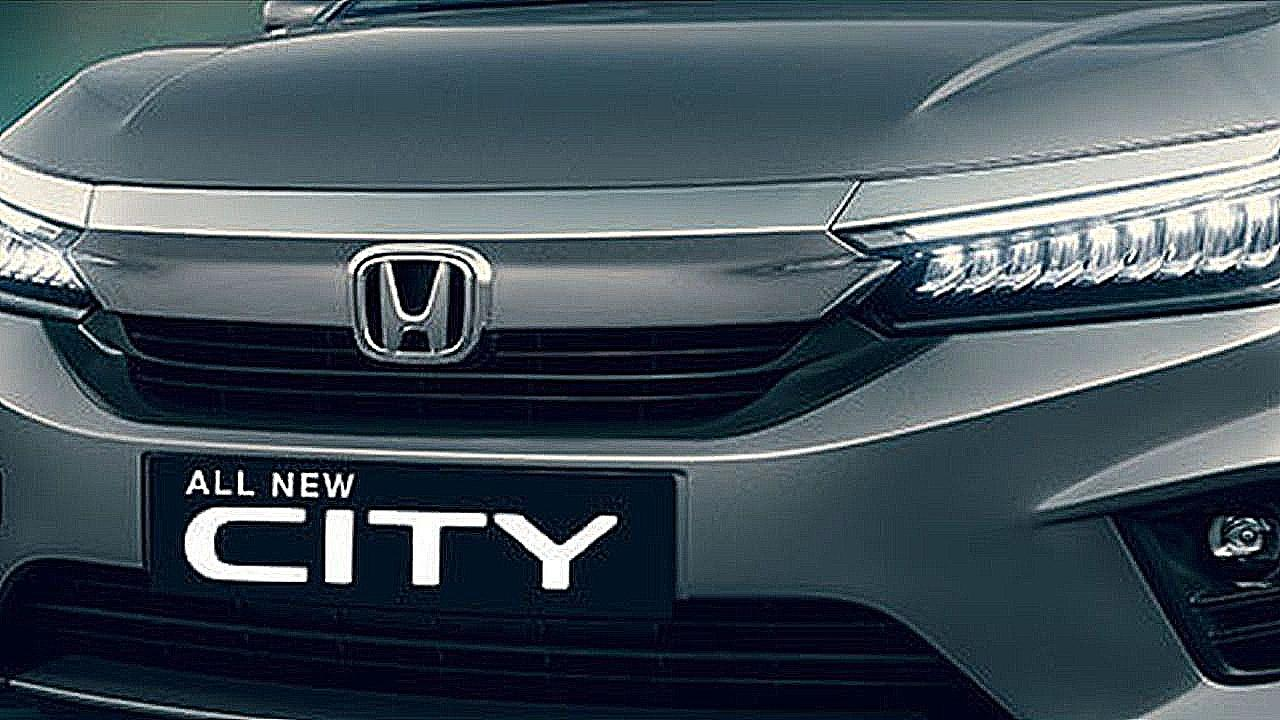Car hood: (0, 2, 1280, 195)
Front bumper: (0, 316, 1280, 720)
Headlight - -L-: (848, 168, 1280, 352)
Headlight - -R-: (0, 190, 112, 344)
Side mirror - -R-: (241, 0, 346, 44)
